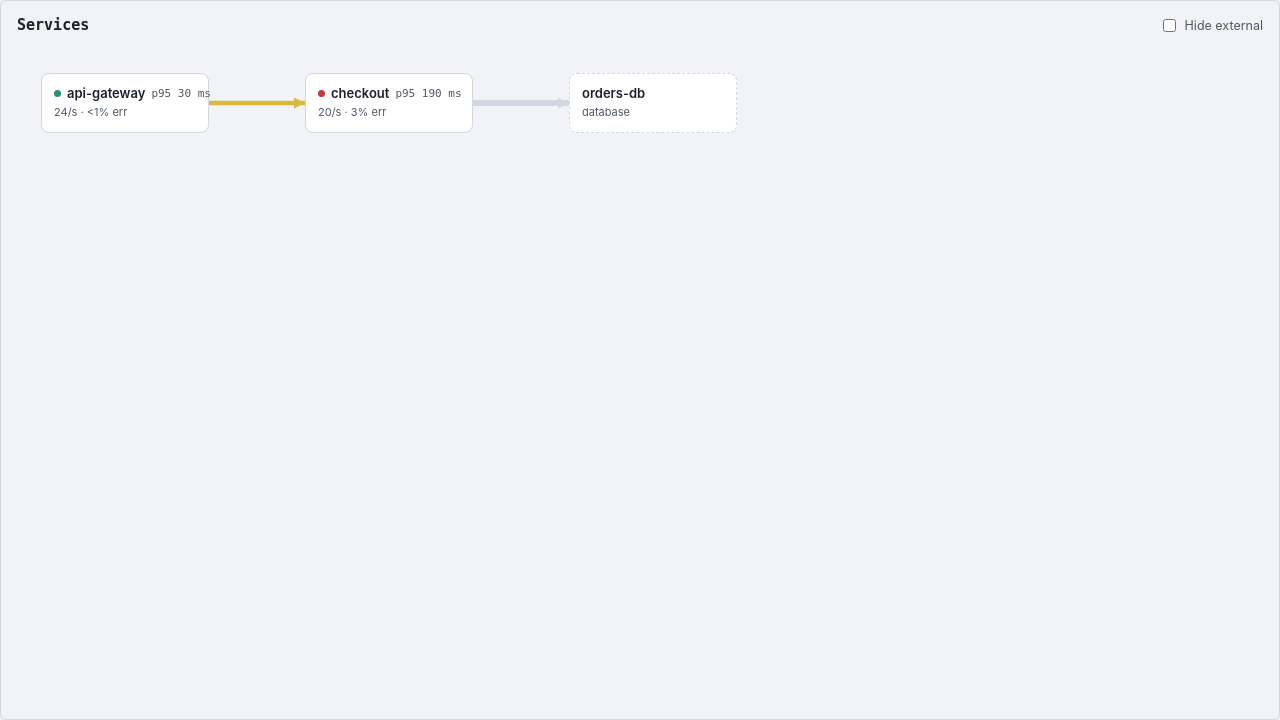
Test case: CatalogServiceMap › opens a side panel with the node's figures, callers and dependencies
Click the button "checkout p95 190 ms 20/s · 3% err". click: (389, 103)
box: [305,73,473,133]
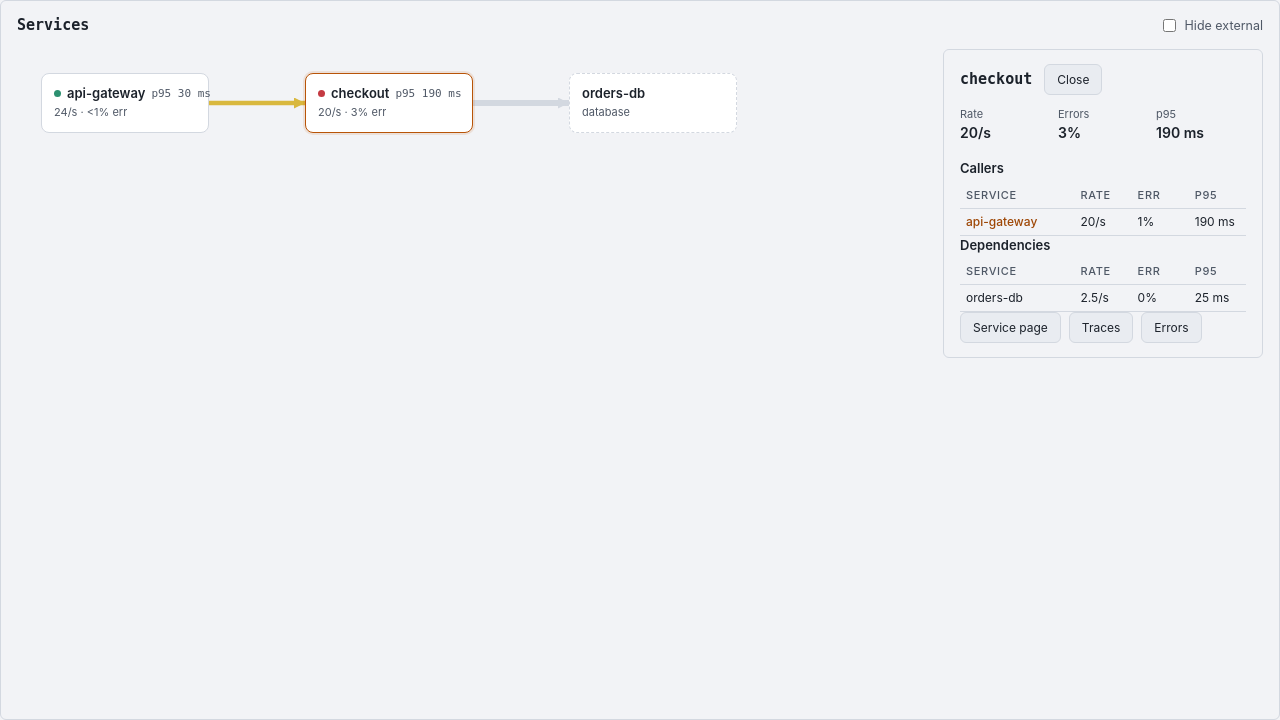
Expected: the element named "checkout details" shows "20/s", [960,124,991,141]
Expected: the element named "checkout details" shows "3%", [1058,124,1081,141]
Expected: the element named "checkout details" shows "190 ms", [1156,124,1204,141]
